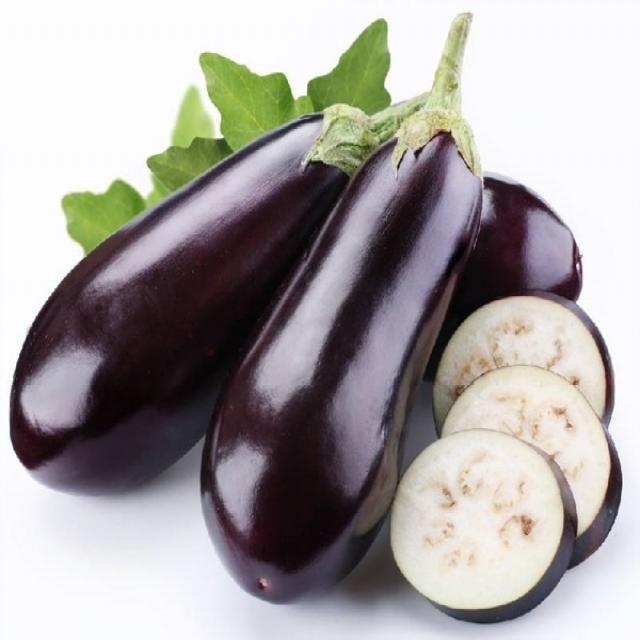eggplant: (20, 12, 629, 620)
